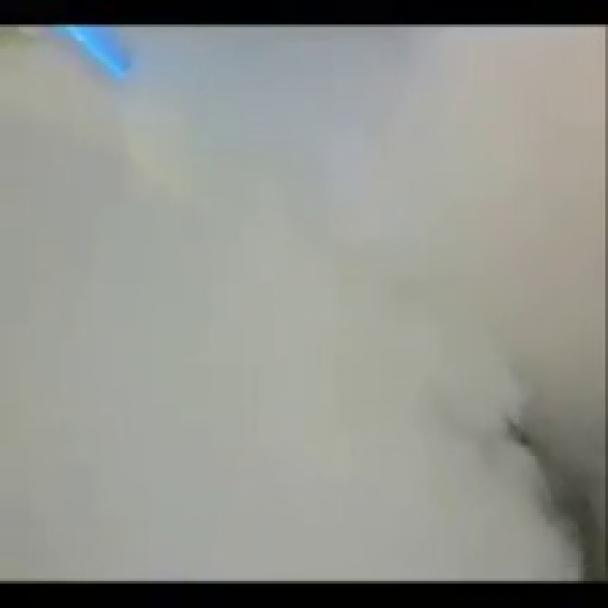smoke: (6, 25, 599, 575)
